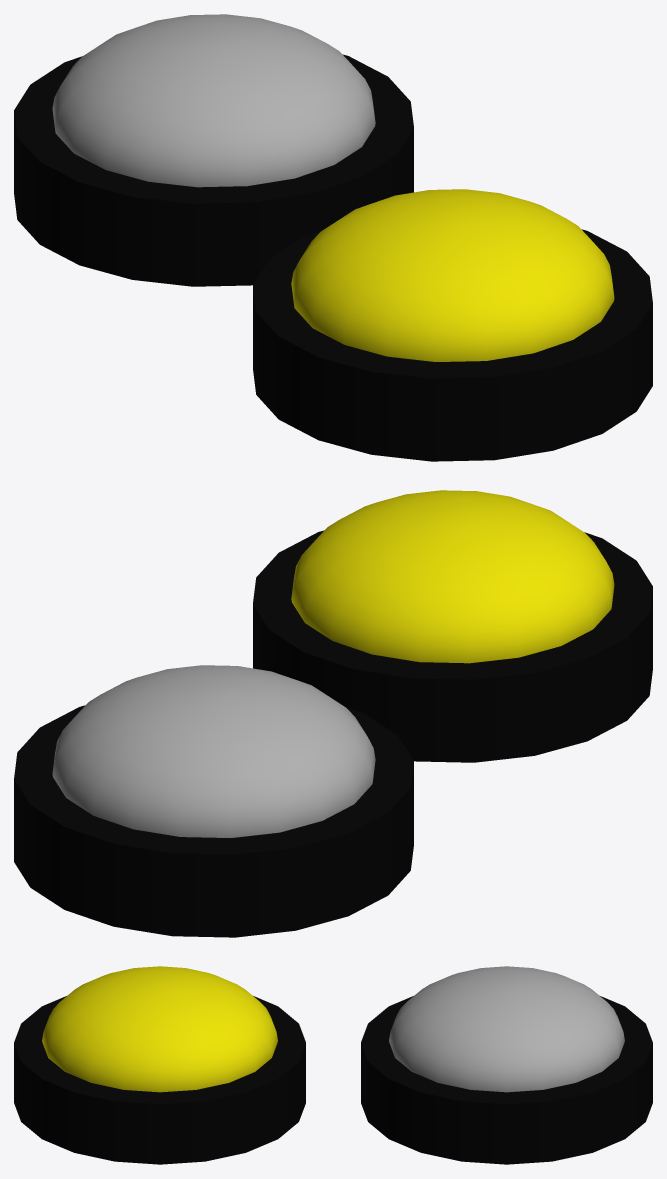
3 renders of one model, top to bottom at view 1: azimuth 30°, elevation 25°; view 2: azimuth 150°, elevation 25°; view 3: azimuth 270°, elevation 25°, orthographic. The views are drawn at different scales.
Parts seen in each view (by area): view 1: pCylinder2, pSphere1, pSphere2, pCylinder1; view 2: pCylinder1, pSphere2, pSphere1, pCylinder2; view 3: pCylinder1, pCylinder2, pSphere1, pSphere2.
Boxes of the visible parts, x1,y1,x2,y2 form: pCylinder2: (253, 229, 652, 461); pSphere1: (52, 14, 375, 187); pSphere2: (291, 189, 614, 361); pCylinder1: (14, 54, 413, 286); pCylinder1: (14, 705, 413, 937); pSphere2: (291, 490, 614, 663); pSphere1: (52, 665, 375, 837); pCylinder2: (253, 530, 652, 762); pCylinder1: (361, 996, 652, 1164); pCylinder2: (14, 996, 305, 1164); pSphere1: (389, 966, 624, 1092); pSphere2: (42, 966, 277, 1092).
Size of the model in its own units: 20.93 by 9.28 by 45.78.
